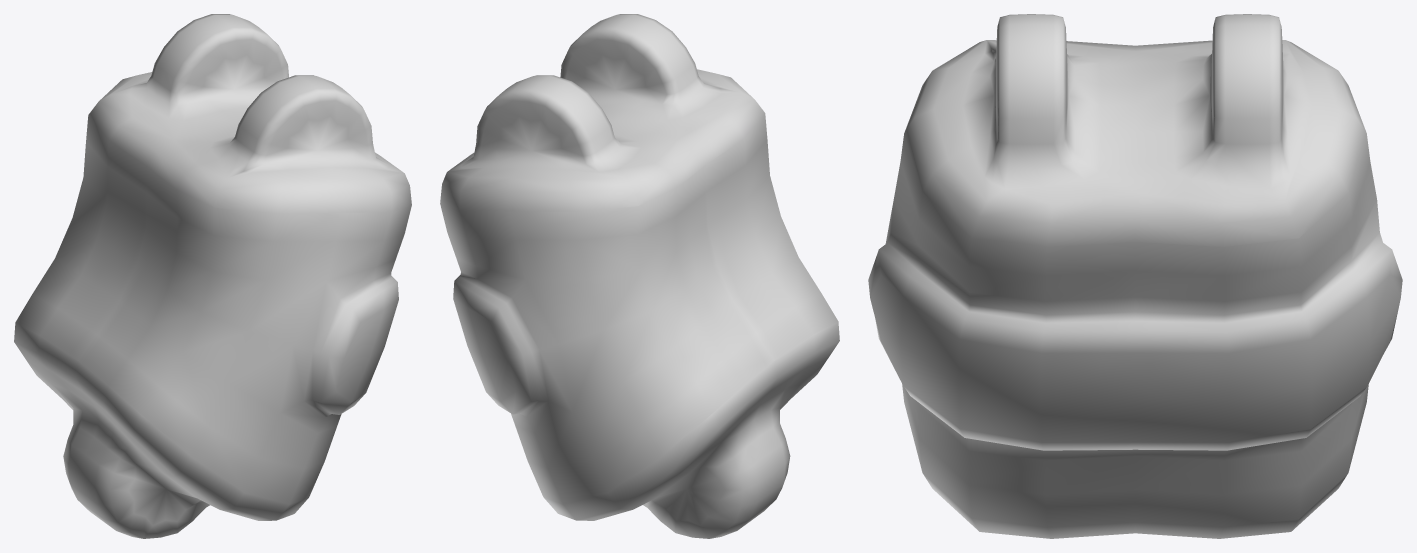
Rendered from third_kncckle_of_leftt_third_finger.obj.
3 views of the same model, side by side, from view 1: azimuth 30°, elevation 25°; view 2: azimuth 150°, elevation 25°; view 3: azimuth 270°, elevation 25° (orthographic). The views are drawn at different scales.
Parts seen in each view (by area): view 1: polySurface12 _Robot_l2:Body; view 2: polySurface12 _Robot_l2:Body; view 3: polySurface12 _Robot_l2:Body.
Boxes of the visible parts, x1,y1,x2,y2 form: polySurface12 _Robot_l2:Body: (14,14,411,538); polySurface12 _Robot_l2:Body: (440,14,839,538); polySurface12 _Robot_l2:Body: (868,14,1402,538).
Size of the model in its own units: 0.4246 by 0.6305 by 0.5338.
